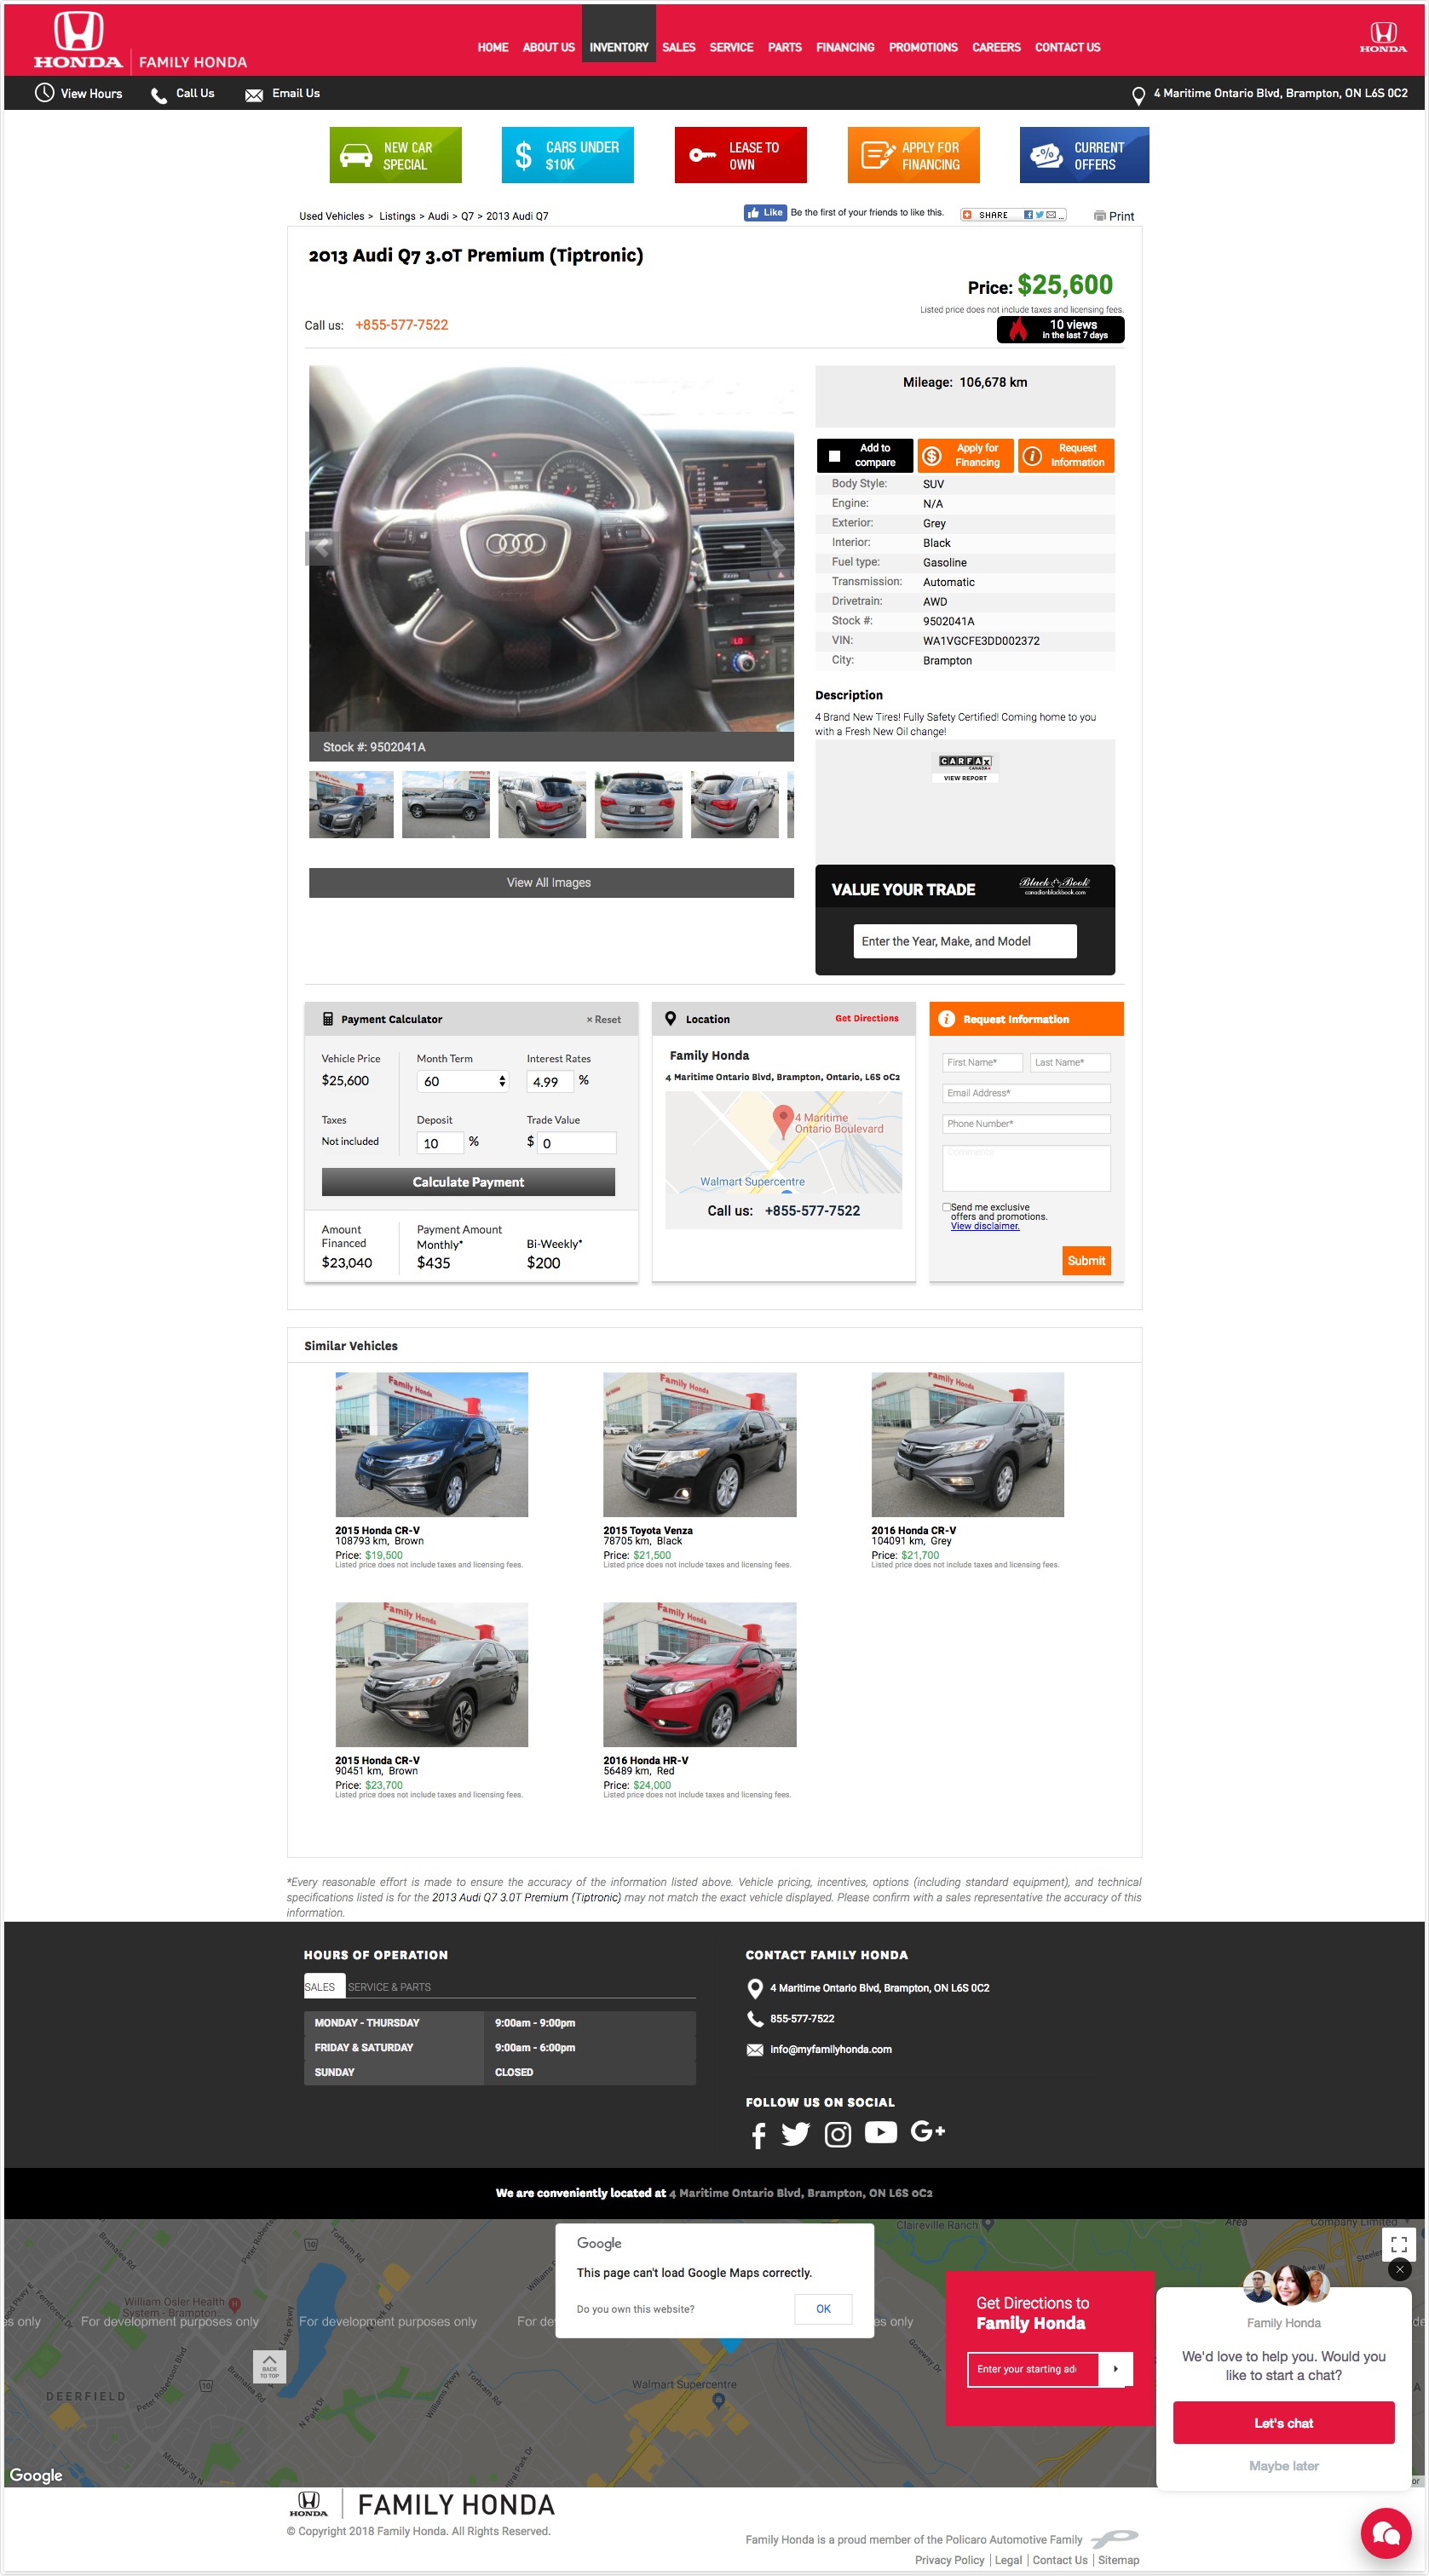car: (769, 540, 788, 559)
